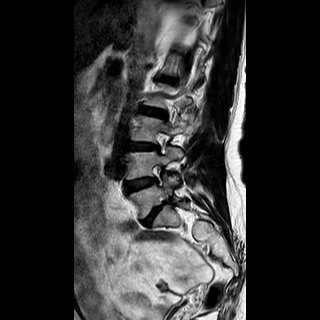RFS0: (149, 126, 179, 158), (148, 159, 170, 189)
